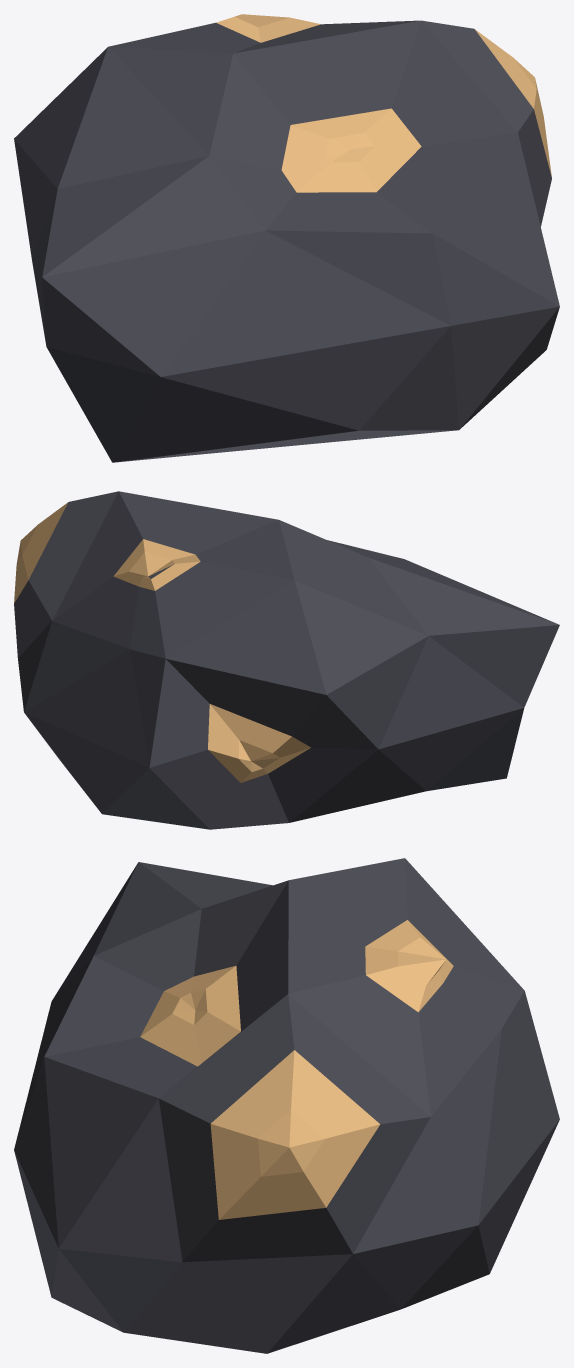
File: gold_ore_.fbx
3 views of the same model, one above another, from view 1: azimuth 30°, elevation 25°; view 2: azimuth 150°, elevation 25°; view 3: azimuth 270°, elevation 25° (orthographic). The views are drawn at different scales.
Visible parts, largest first — view 1: GoldOre; view 2: GoldOre; view 3: GoldOre.
Boxes of the visible parts, x1,y1,x2,y2 form: GoldOre: [14, 14, 559, 462]; GoldOre: [14, 491, 559, 829]; GoldOre: [14, 858, 559, 1353].
Bounding box in the file's own units: 279 × 154 × 215.
